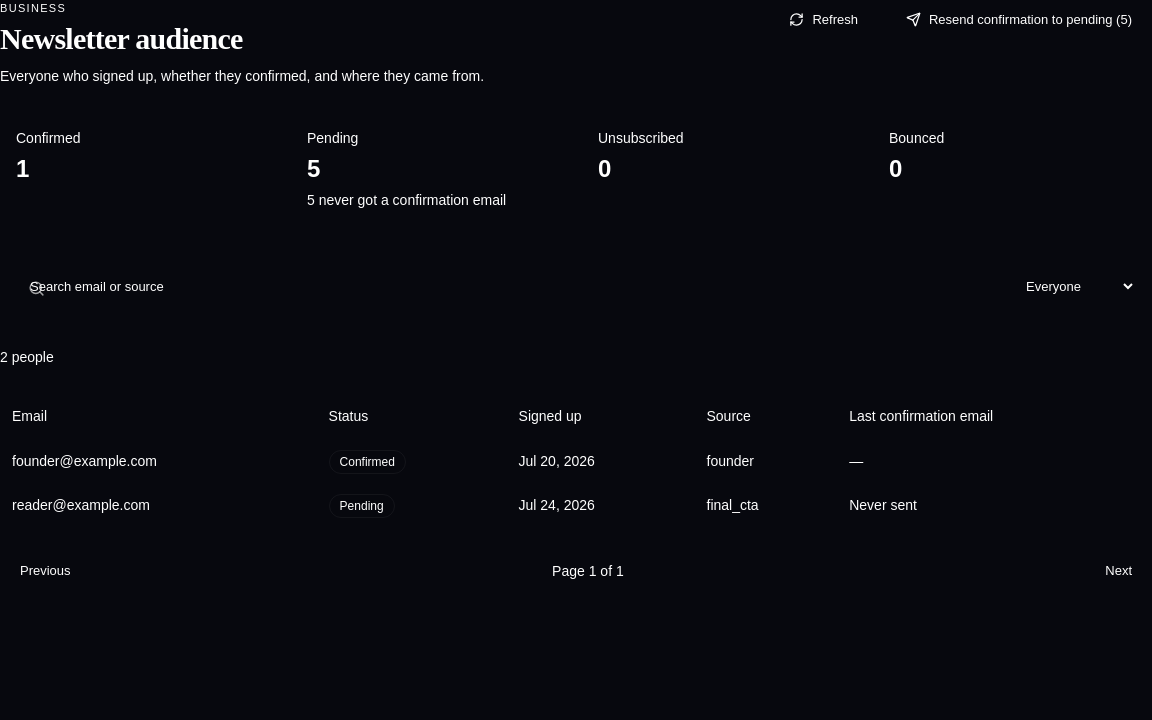
Scenario: AudienceManager › asks before resending and never sends on cancel
Later steps or results of the test are not shown.
Click the button "Resend confirmation to pending (5)": [1019, 20] box [886,0,1151,40]
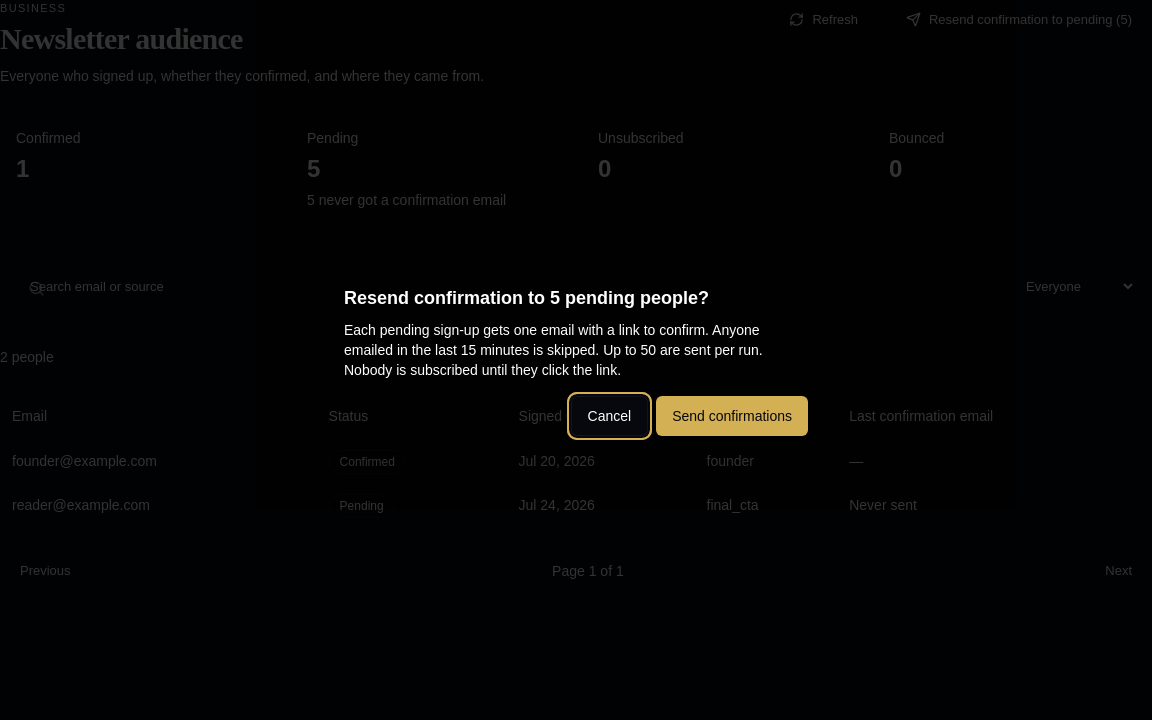
Check: the heading "Resend confirmation to 5 pending people?" is shown, box [344,288,709,308]
